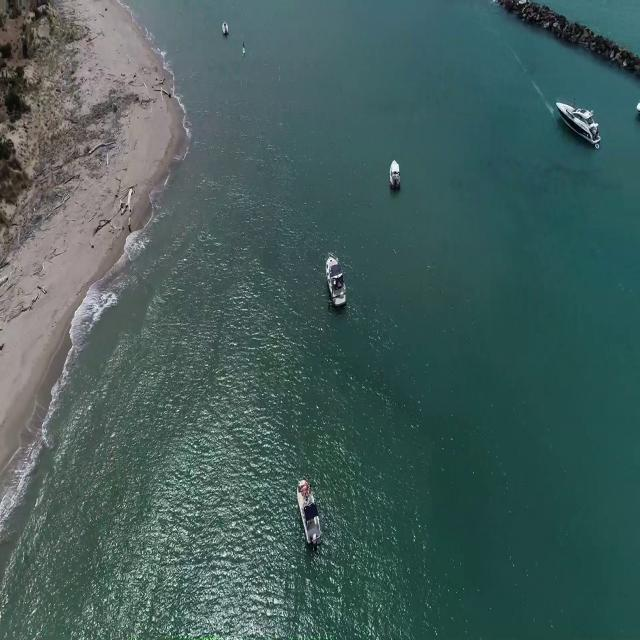boat: (556, 101, 602, 152), (299, 475, 322, 552), (328, 252, 350, 314), (392, 159, 407, 194), (222, 20, 230, 37)
person: (242, 38, 248, 50)
surfboard: (242, 47, 248, 60)
wood: (97, 187, 139, 232)
